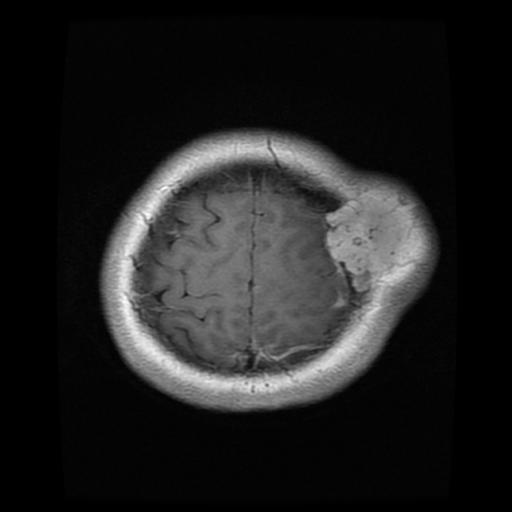Menigiomia_tumour: (323, 199, 407, 288)
